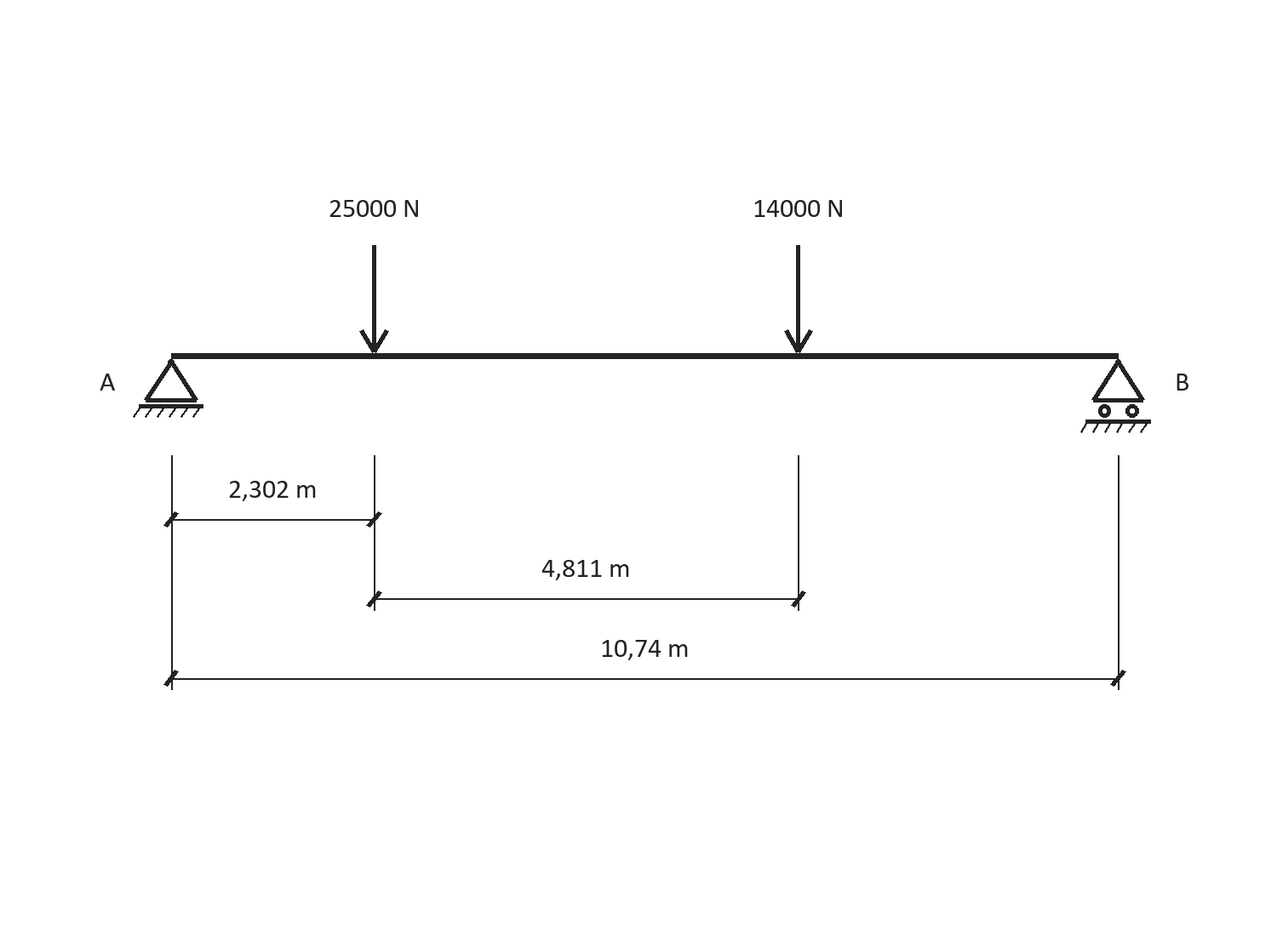pin_support: (133, 359, 203, 418)
point_load: (359, 245, 389, 353), (784, 245, 813, 353)
roller_support: (1080, 359, 1151, 433)
